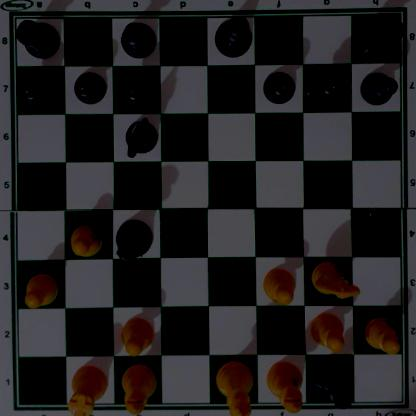black-bishop: (312, 358, 353, 411), (117, 21, 158, 58)
black-king: (213, 15, 252, 58)
black-knight: (123, 116, 158, 157)
black-pawn: (360, 69, 396, 105), (262, 68, 295, 102), (20, 72, 54, 104), (311, 67, 343, 101), (73, 70, 104, 104), (122, 71, 152, 105)
black-queen: (114, 218, 154, 261)
black-rook: (12, 15, 59, 58), (358, 11, 402, 55)
white-bishop: (119, 363, 159, 416), (265, 361, 304, 414)
white-king: (215, 360, 254, 416)
white-knight: (312, 259, 360, 300)
white-pawn: (309, 311, 345, 350), (363, 315, 400, 352), (118, 315, 153, 354), (22, 271, 58, 307), (262, 266, 295, 304), (68, 222, 103, 256)
white-rook: (66, 363, 108, 416)
